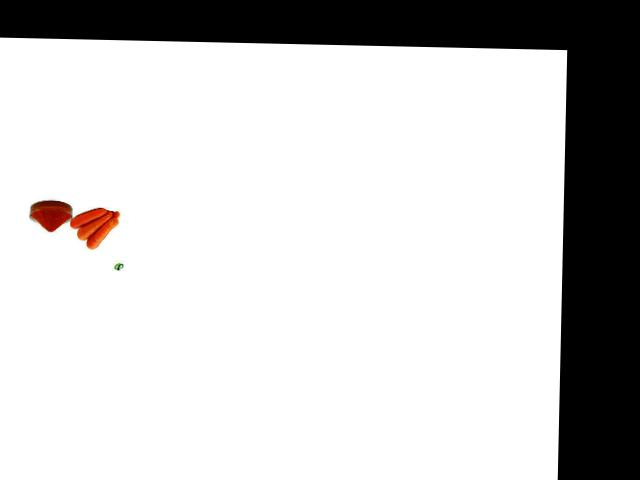carrot: (70, 203, 109, 229)
